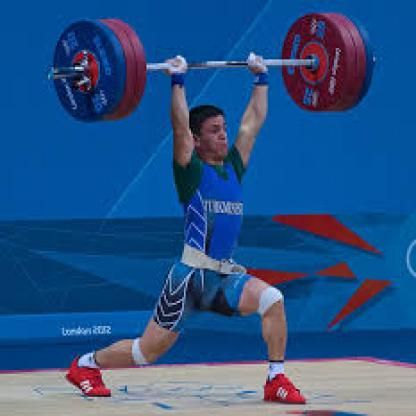Barbell: (279, 8, 379, 121), (47, 16, 133, 126)
